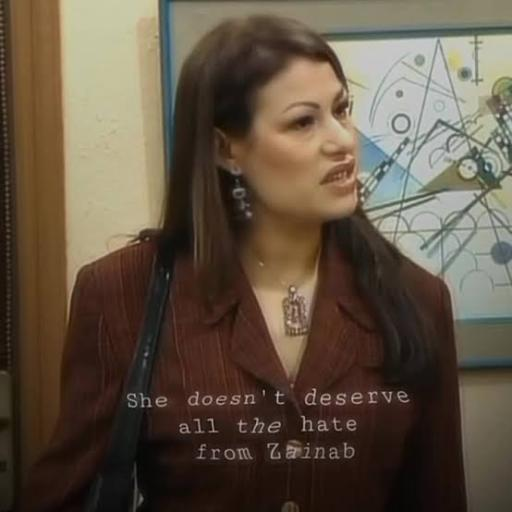zeineb: (219, 56, 358, 226)
